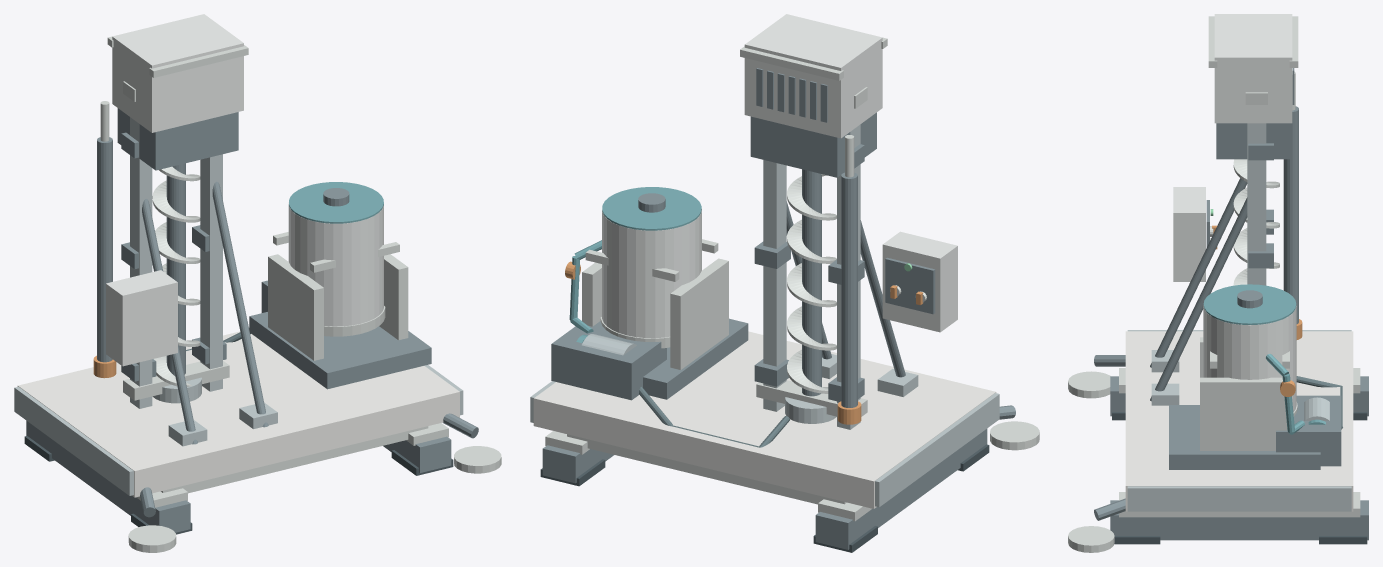
The model's file is exterior_ice_water_drill.glb.
3 views of the same model, side by side, from view 1: azimuth 30°, elevation 25°; view 2: azimuth 150°, elevation 25°; view 3: azimuth 270°, elevation 25° (orthographic). The views are drawn at different scales.
Visible parts, largest first — view 1: equipment_deck_white_painted, motor_shroud_white_ceramic, water_reservoir_white_ceramic, drill_mast_alloy, tank_cradle_satin_steel, water_reservoir_cradle_dark_alloy, control_box_white_ceramic, base_skids_dark_alloy, motor_carriage_dark_alloy, mast_braces_dark_alloy, deck_edge_alloy, guide_hydraulic_dark_alloy (+15 smaller); view 2: equipment_deck_white_painted, motor_shroud_white_ceramic, water_reservoir_white_ceramic, drill_mast_alloy, tank_cradle_satin_steel, base_skids_dark_alloy, pump_chassis_dark_alloy, control_box_white_ceramic, motor_carriage_dark_alloy, deck_edge_alloy, guide_hydraulic_dark_alloy, auger_flight_satin_steel (+19 smaller); view 3: equipment_deck_white_painted, motor_shroud_white_ceramic, base_skids_dark_alloy, tank_cradle_satin_steel, deck_edge_alloy, water_reservoir_white_ceramic, water_reservoir_cradle_dark_alloy, mast_braces_dark_alloy, control_box_white_ceramic, pump_chassis_dark_alloy, guide_hydraulic_dark_alloy, water_reservoir_teal (+13 smaller).
Boxes of the visible parts, x1=… form: equipment_deck_white_painted: x1=17, y1=331, x2=459, y2=497; motor_shroud_white_ceramic: x1=112, y1=14, x2=243, y2=132; water_reservoir_white_ceramic: x1=288, y1=201, x2=383, y2=326; drill_mast_alloy: x1=130, y1=117, x2=222, y2=408; tank_cradle_satin_steel: x1=268, y1=254, x2=408, y2=360; water_reservoir_cradle_dark_alloy: x1=249, y1=312, x2=431, y2=389; control_box_white_ceramic: x1=106, y1=270, x2=177, y2=366; base_skids_dark_alloy: x1=26, y1=420, x2=451, y2=532; motor_carriage_dark_alloy: x1=117, y1=108, x2=238, y2=170; mast_braces_dark_alloy: x1=142, y1=181, x2=268, y2=444; deck_edge_alloy: x1=14, y1=365, x2=463, y2=495; guide_hydraulic_dark_alloy: x1=97, y1=137, x2=112, y2=362; equipment_deck_white_painted: x1=533, y1=331, x2=996, y2=508; motor_shroud_white_ceramic: x1=744, y1=14, x2=882, y2=138; water_reservoir_white_ceramic: x1=602, y1=208, x2=701, y2=338; drill_mast_alloy: x1=763, y1=124, x2=860, y2=429; tank_cradle_satin_steel: x1=582, y1=258, x2=728, y2=369; base_skids_dark_alloy: x1=542, y1=428, x2=987, y2=549; pump_chassis_dark_alloy: x1=551, y1=321, x2=666, y2=400; control_box_white_ceramic: x1=882, y1=231, x2=957, y2=332; motor_carriage_dark_alloy: x1=750, y1=112, x2=876, y2=177; deck_edge_alloy: x1=530, y1=381, x2=999, y2=507; guide_hydraulic_dark_alloy: x1=841, y1=172, x2=857, y2=407; auger_flight_satin_steel: x1=787, y1=174, x2=836, y2=393; equipment_deck_white_painted: x1=1125, y1=331, x2=1353, y2=511; motor_shroud_white_ceramic: x1=1214, y1=14, x2=1292, y2=123; base_skids_dark_alloy: x1=1110, y1=376, x2=1368, y2=540; tank_cradle_satin_steel: x1=1200, y1=337, x2=1287, y2=450; deck_edge_alloy: x1=1127, y1=330, x2=1351, y2=511; water_reservoir_white_ceramic: x1=1203, y1=305, x2=1296, y2=411; water_reservoir_cradle_dark_alloy: x1=1169, y1=405, x2=1320, y2=469; mast_braces_dark_alloy: x1=1150, y1=178, x2=1247, y2=401; control_box_white_ceramic: x1=1173, y1=187, x2=1205, y2=281; pump_chassis_dark_alloy: x1=1276, y1=395, x2=1341, y2=466; guide_hydraulic_dark_alloy: x1=1283, y1=106, x2=1298, y2=323; water_reservoir_teal: x1=1203, y1=284, x2=1296, y2=324.
Size of the model in its own units: 2.39 by 2.64 by 1.75.
